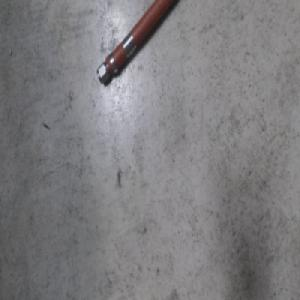Hose: (96, 0, 180, 88)
